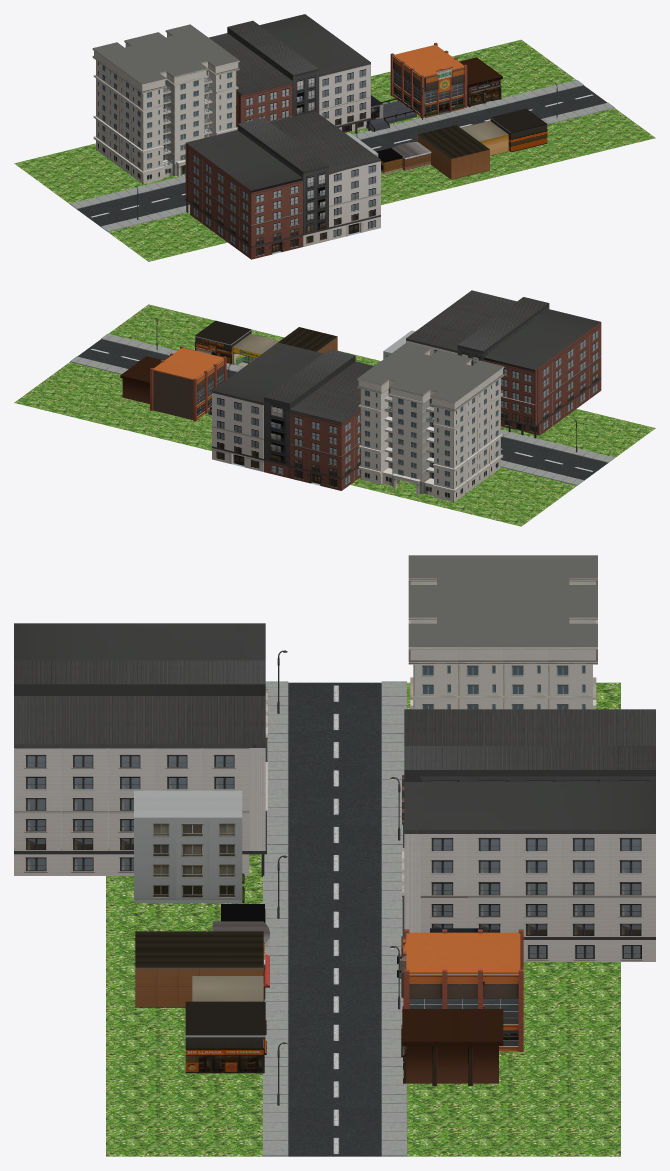
File: DoriHome2.fbx
The picture shows the model from 3 angles, top to bottom: view 1: azimuth 30°, elevation 25°; view 2: azimuth 150°, elevation 25°; view 3: azimuth 270°, elevation 25°; orthographic projection. The views are drawn at different scales.
Visible parts, largest first — view 1: Plane.028, Plane.018, Condo.001, Condo.002, Condo.005, Condo.003, polleria, burguer, Pizzeria, Plane.017, farmacia, Plane.019 (+2 smaller); view 2: Plane.028, Plane.018, Condo.005, Condo.001, Condo.003, Condo.002, polleria, Pizzeria, Plane.017, burguer, farmacia; view 3: Plane.028, Condo.002, Condo.003, Plane.018, Condo.005, Condo.004, polleria, Condo.001, burguer, Plane.017, Pizzeria, farmacia.
Boxes of the visible parts, x1,y1,x2,y2 form: Plane.028: [14, 39, 655, 261]; Plane.018: [92, 24, 239, 183]; Condo.001: [185, 130, 302, 259]; Condo.002: [237, 111, 380, 246]; Condo.005: [209, 20, 318, 126]; Condo.003: [259, 14, 371, 133]; polleria: [390, 43, 467, 118]; burguer: [417, 125, 489, 179]; Pizzeria: [490, 108, 547, 152]; Plane.017: [459, 57, 502, 107]; farmacia: [461, 121, 508, 155]; Plane.019: [392, 142, 431, 170]; Plane.028: [14, 304, 655, 526]; Plane.018: [357, 342, 504, 502]; Condo.005: [264, 349, 373, 490]; Condo.001: [483, 309, 601, 438]; Condo.003: [212, 342, 322, 471]; Condo.002: [406, 290, 549, 365]; polleria: [150, 346, 226, 421]; Pizzeria: [194, 320, 251, 363]; Plane.017: [120, 356, 161, 403]; burguer: [278, 327, 337, 353]; farmacia: [232, 334, 279, 366]; Plane.028: [106, 681, 620, 1156]; Condo.002: [14, 660, 267, 876]; Condo.003: [402, 782, 655, 961]; Plane.018: [408, 555, 597, 709]; Condo.005: [402, 709, 655, 847]; Condo.004: [134, 790, 244, 902]; polleria: [401, 929, 523, 1051]; Condo.001: [14, 623, 267, 761]; burguer: [135, 931, 269, 1007]; Plane.017: [401, 1009, 503, 1085]; Pizzeria: [185, 1001, 266, 1073]; farmacia: [192, 976, 263, 1001].
Size of the model in its own units: 15725 by 3034 by 9000.
7 materials, 5 textured.
